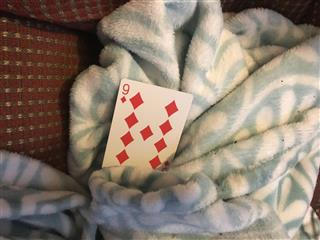NineOfDiamonds: (100, 77, 194, 170)
